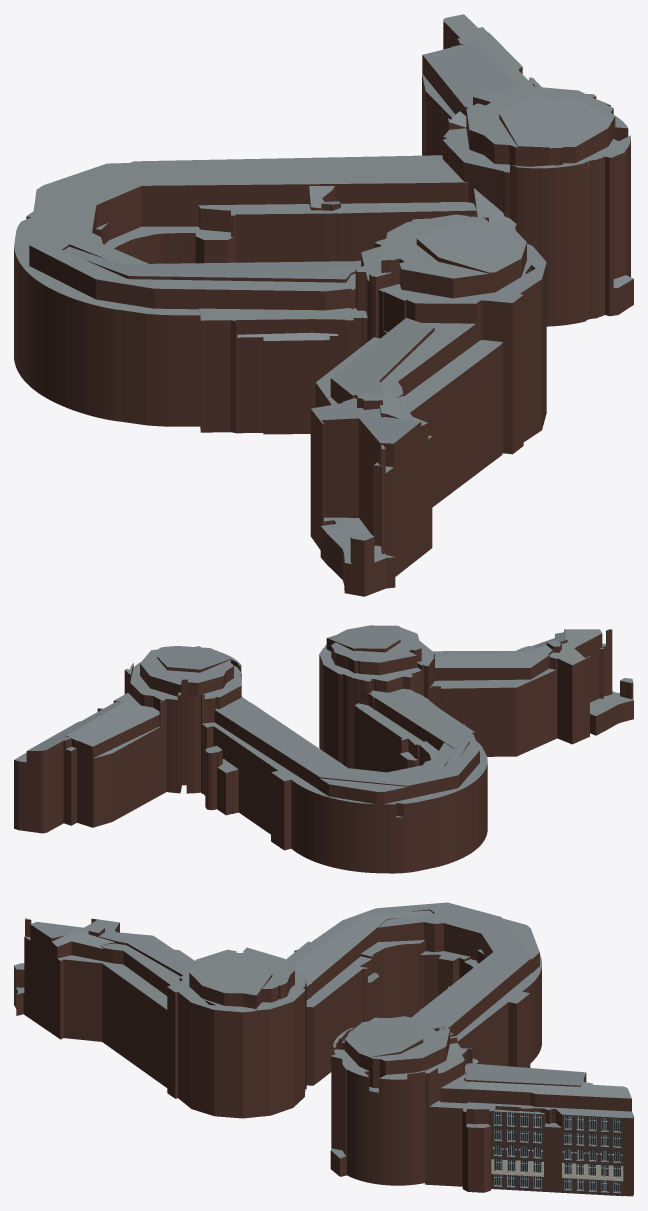
Rendered from recipe-large-van-der-palmkade-191-120309.glb.
3 views of the same model, one above another, from view 1: azimuth 30°, elevation 25°; view 2: azimuth 150°, elevation 25°; view 3: azimuth 270°, elevation 25° (orthographic). The views are drawn at different scales.
Parts seen in each view (by area): view 1: van-der-palmkade-191-120309; view 2: van-der-palmkade-191-120309; view 3: van-der-palmkade-191-120309.
Part boxes in pixels (left/top/right/bottom): van-der-palmkade-191-120309: left=14, top=14, right=633, bottom=596; van-der-palmkade-191-120309: left=14, top=625, right=633, bottom=873; van-der-palmkade-191-120309: left=14, top=902, right=633, bottom=1196.
Bounding box in the file's own units: 88.81 × 25.19 × 114.
